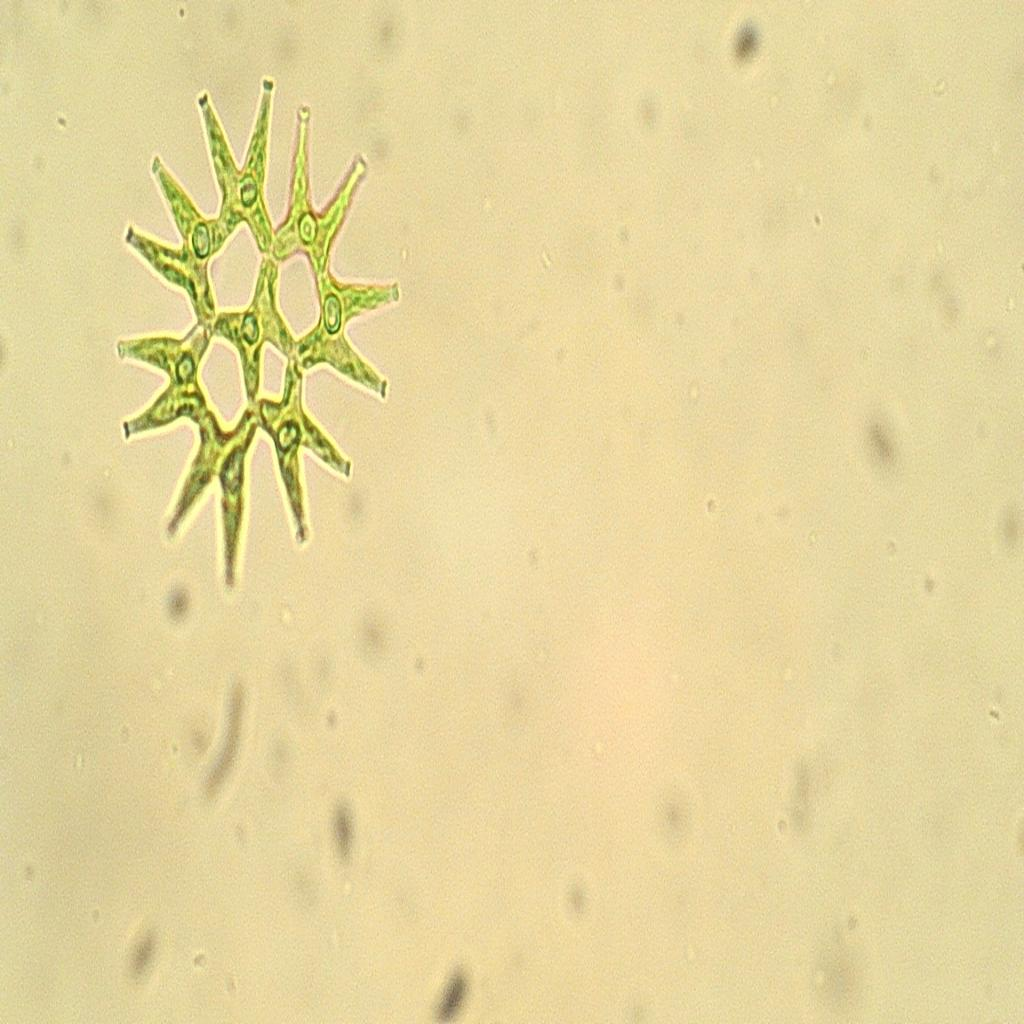Pediastrum_75T: (98, 68, 410, 602)
